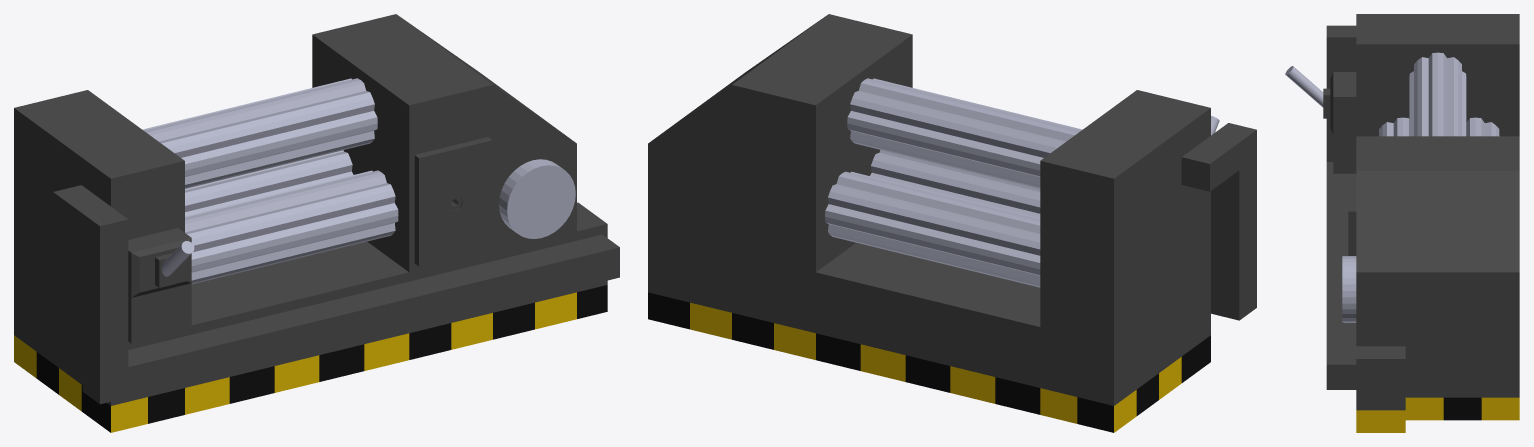
File: Generator.fbx
3 renders of one model, left to right at view 1: azimuth 30°, elevation 25°; view 2: azimuth 150°, elevation 25°; view 3: azimuth 270°, elevation 25°, orthographic. The views are drawn at different scales.
Visible parts, largest first — view 1: Cube, Cylinder, Cylinder.001, Cylinder.004, Cylinder.002; view 2: Cube, Cylinder.002, Cylinder.001, Cylinder; view 3: Cube, Cylinder.001, Cylinder.004, Cylinder.003, Cylinder.002, Cylinder.
Boxes of the visible parts, box(x1,y1,x2,y2) form: Cube: box(14, 14, 619, 432); Cylinder: box(185, 170, 398, 284); Cylinder.001: box(142, 78, 377, 188); Cylinder.004: box(499, 159, 575, 238); Cylinder.002: box(185, 150, 353, 216); Cube: box(648, 14, 1256, 432); Cylinder.002: box(825, 171, 1040, 287); Cylinder.001: box(847, 78, 1082, 188); Cylinder: box(870, 150, 1040, 217); Cube: box(1323, 14, 1519, 432); Cylinder.001: box(1409, 52, 1466, 136); Cylinder.004: box(1342, 256, 1356, 322); Cylinder.003: box(1285, 66, 1323, 107); Cylinder.002: box(1466, 117, 1499, 136); Cylinder: box(1379, 117, 1409, 136).
Bounding box in the file's own units: 626 × 290 × 287.
